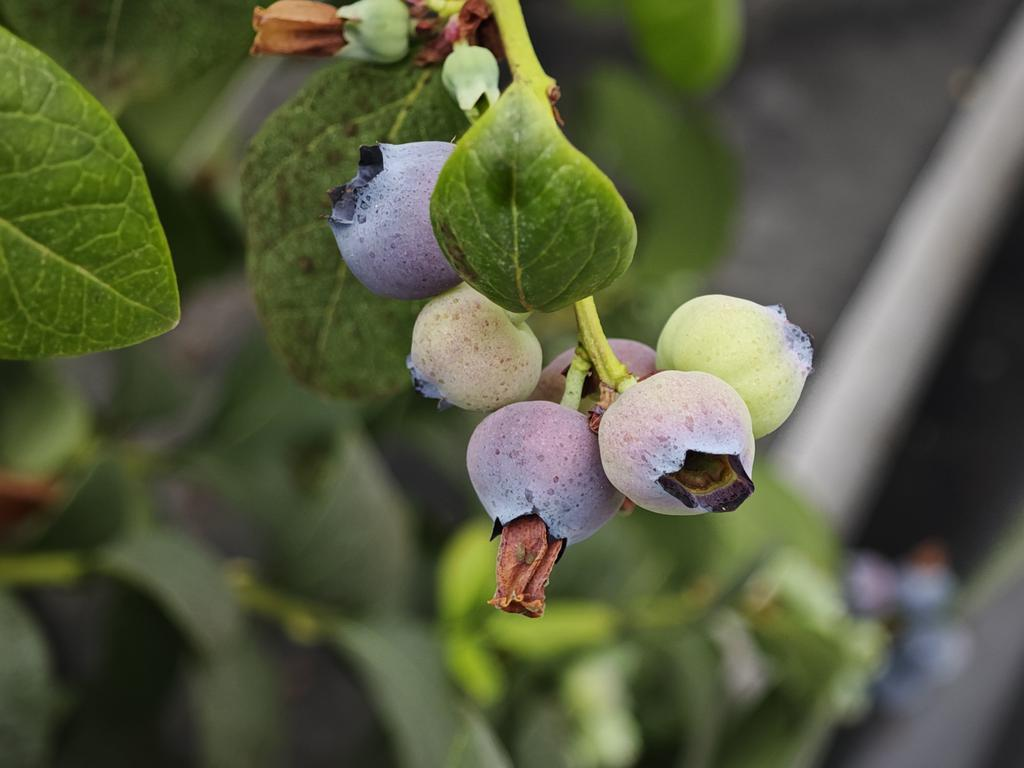Semi-RipeBlueBerry: (602, 372, 761, 518), (470, 398, 612, 548), (411, 289, 542, 413)
